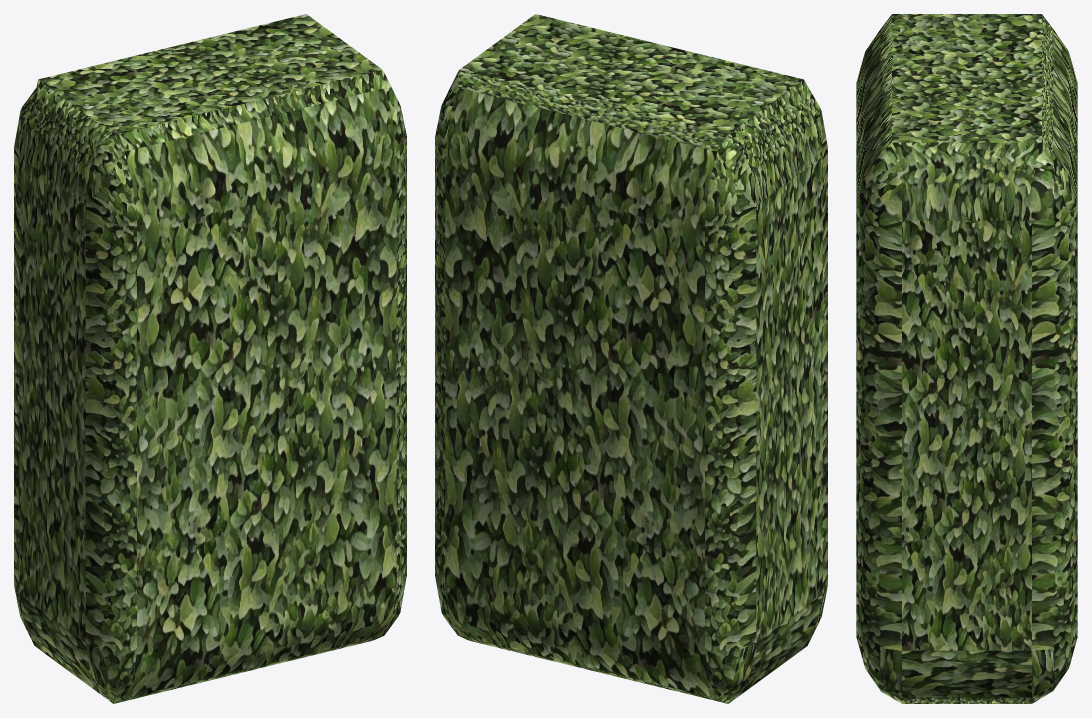
Rendered from 3dmodel_hedgethin_v1_sc.fbx.
3 views of the same model, side by side, from view 1: azimuth 30°, elevation 25°; view 2: azimuth 150°, elevation 25°; view 3: azimuth 270°, elevation 25° (orthographic).
Parts seen in each view (by area): view 1: thin_hedge; view 2: thin_hedge; view 3: thin_hedge.
Boxes of the visible parts, <box> form: thin_hedge: <box>14,14,406,703</box>; thin_hedge: <box>435,14,827,703</box>; thin_hedge: <box>856,14,1077,703</box>.
Size of the model in its own units: 8.73 by 15.14 by 5.39.
